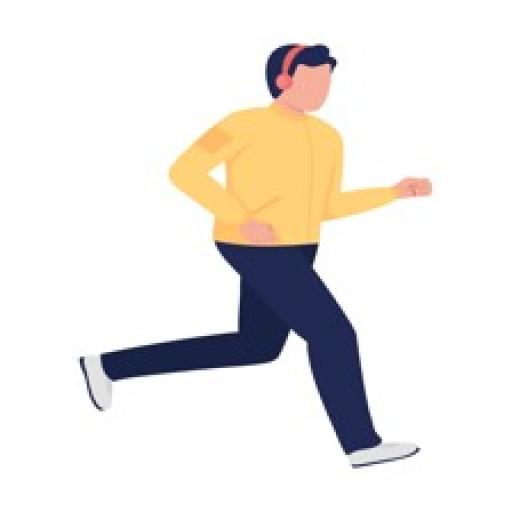human: (66, 38, 441, 473)
